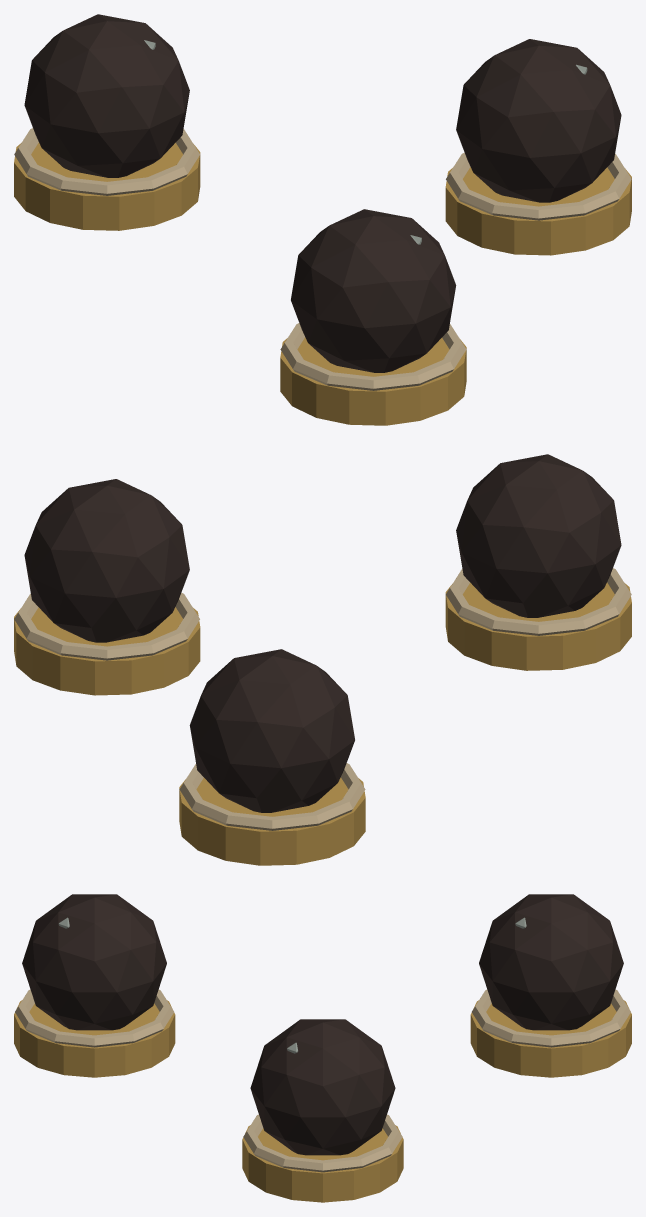
Rendered from PirateCove_CannonballSlalom_Showcase.glb.
3 renders of one model, top to bottom at view 1: azimuth 30°, elevation 25°; view 2: azimuth 150°, elevation 25°; view 3: azimuth 270°, elevation 25°, orthographic. The views are drawn at different scales.
Visible parts, largest first — view 1: PirateCove_CannonballSlalom_Showcase; view 2: PirateCove_CannonballSlalom_Showcase; view 3: PirateCove_CannonballSlalom_Showcase.
Boxes of the visible parts, box(x1,y1,x2,y2) form: PirateCove_CannonballSlalom_Showcase: box(14, 14, 631, 425); PirateCove_CannonballSlalom_Showcase: box(14, 454, 631, 865); PirateCove_CannonballSlalom_Showcase: box(14, 894, 631, 1202).
Bounding box in the file's own units: 1.7 × 0.6 × 2.3.
